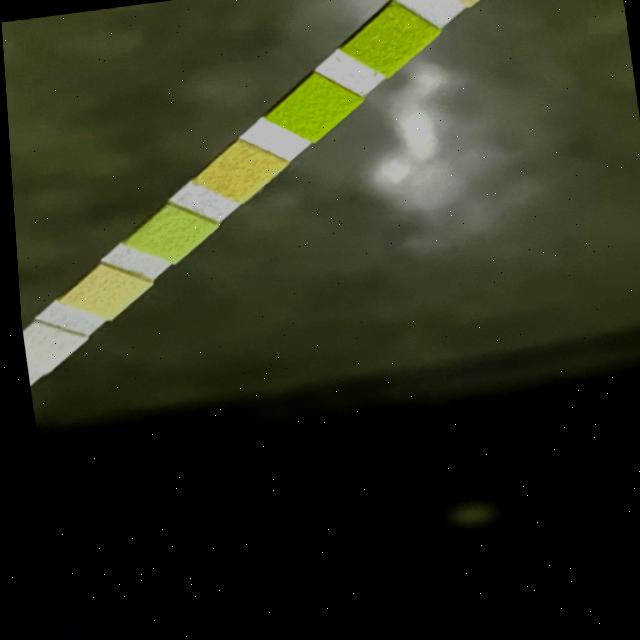Blood: (286, 93, 337, 132)
Nitrite: (17, 327, 60, 365)
Protein: (144, 217, 192, 255)
SpGravity: (363, 24, 414, 66)
Urobilinogen: (78, 277, 121, 312)
pH: (215, 154, 263, 192)
